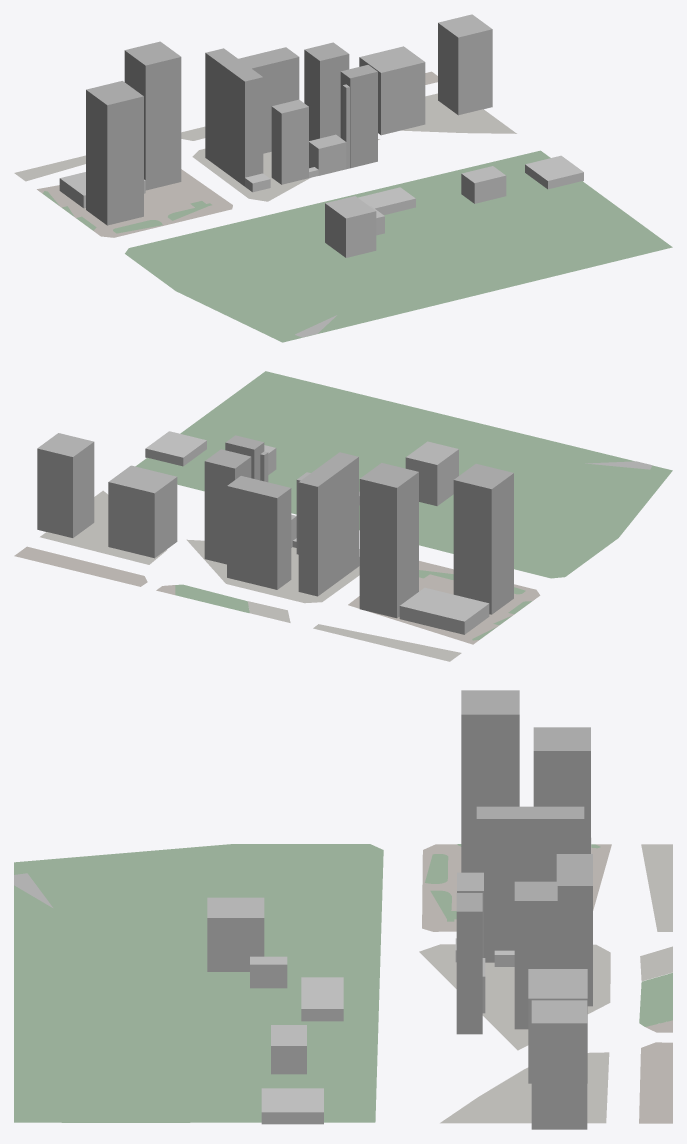
Rendered from 118_79_mid.glb.
3 views of the same model, one above another, from view 1: azimuth 30°, elevation 25°; view 2: azimuth 150°, elevation 25°; view 3: azimuth 270°, elevation 25° (orthographic). The views are drawn at different scales.
Bounding box in the file's own units: 511 × 144 × 500.
